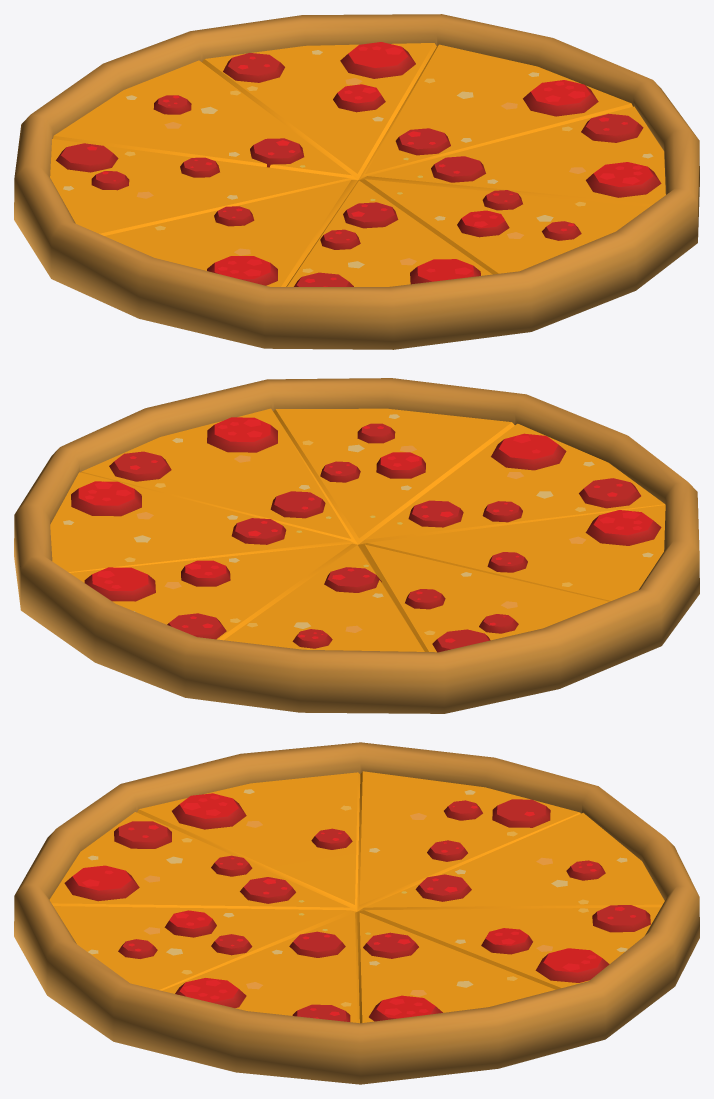
The model's file is Pizza_A.fbx.
3 views of the same model, one above another, from view 1: azimuth 30°, elevation 25°; view 2: azimuth 150°, elevation 25°; view 3: azimuth 270°, elevation 25° (orthographic).
Visible parts, largest first — view 1: Pizza_A; view 2: Pizza_A; view 3: Pizza_A.
Part boxes in pixels (left/top/right/bottom): Pizza_A: left=14, top=14, right=699, bottom=349; Pizza_A: left=14, top=378, right=699, bottom=713; Pizza_A: left=14, top=742, right=699, bottom=1084.
Size of the model in its own units: 41.95 by 3.72 by 41.24.
